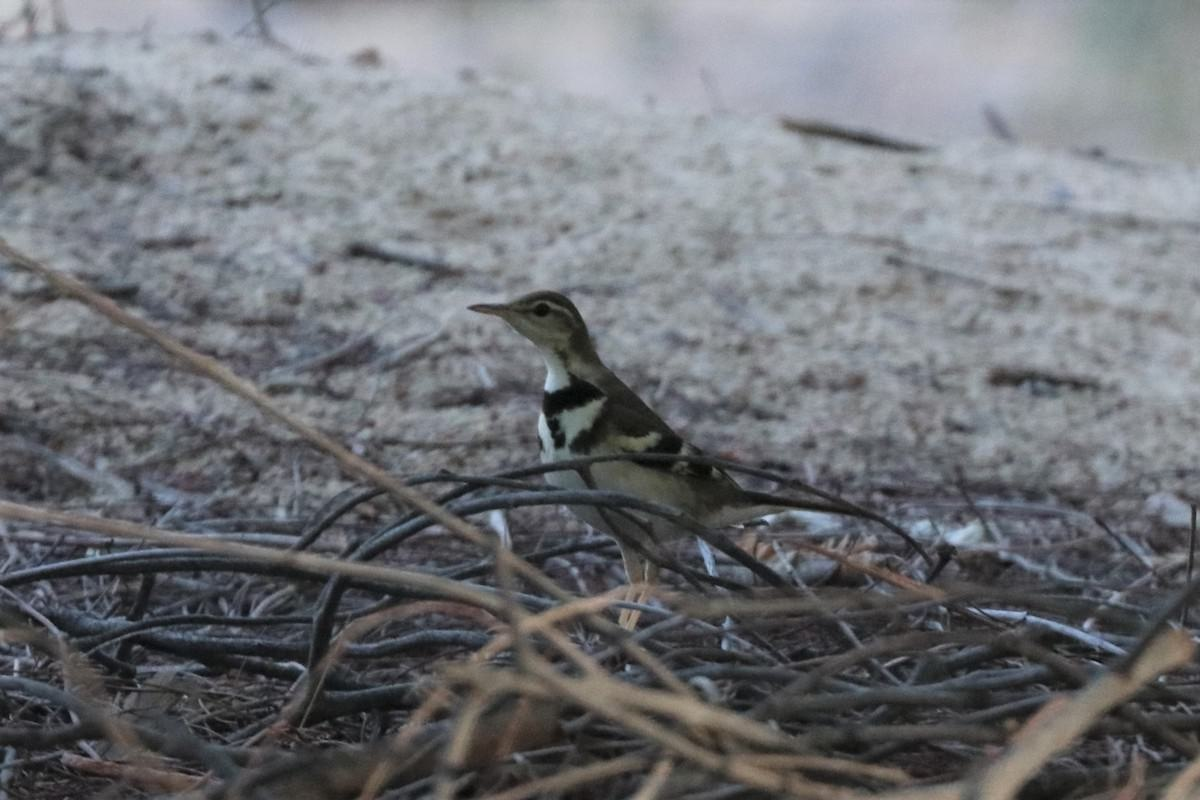wagtail: (463, 274, 788, 576)
